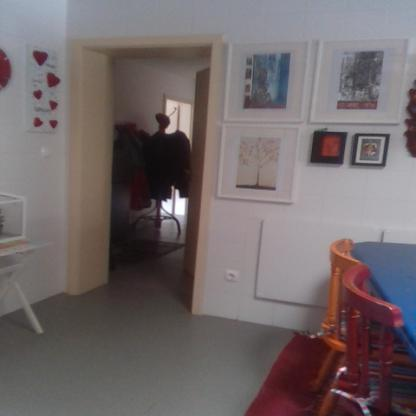open: (60, 30, 231, 306)
